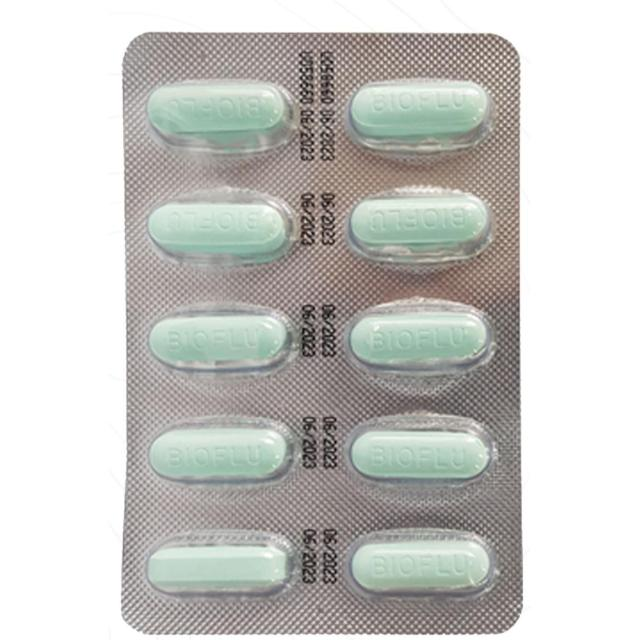blister: (122, 25, 528, 632)
